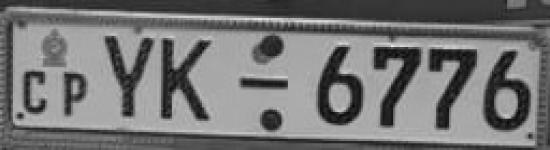-: (235, 69, 292, 99)
6: (480, 45, 536, 140), (314, 40, 370, 133)
7: (426, 42, 482, 136), (372, 38, 425, 135)
C: (19, 66, 53, 117)
K: (158, 31, 216, 128)
P: (59, 68, 93, 121)
Y: (100, 31, 157, 123)
